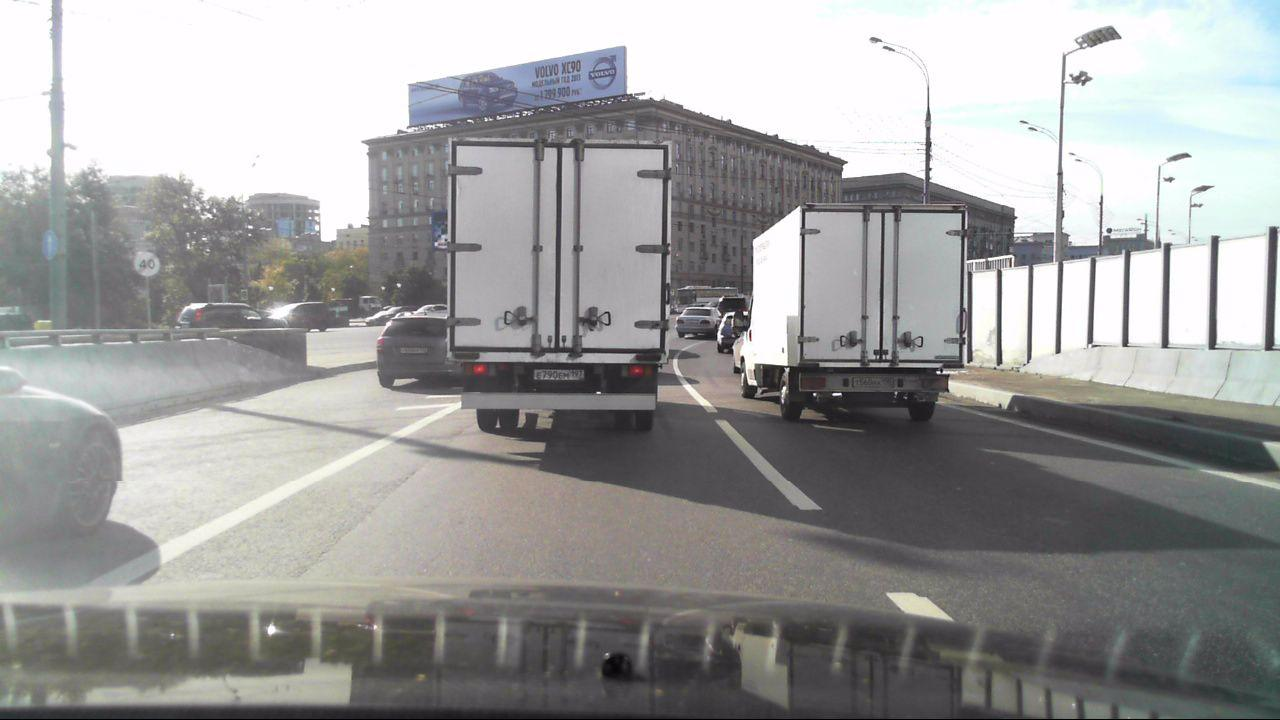3_25: (132, 250, 162, 278)
